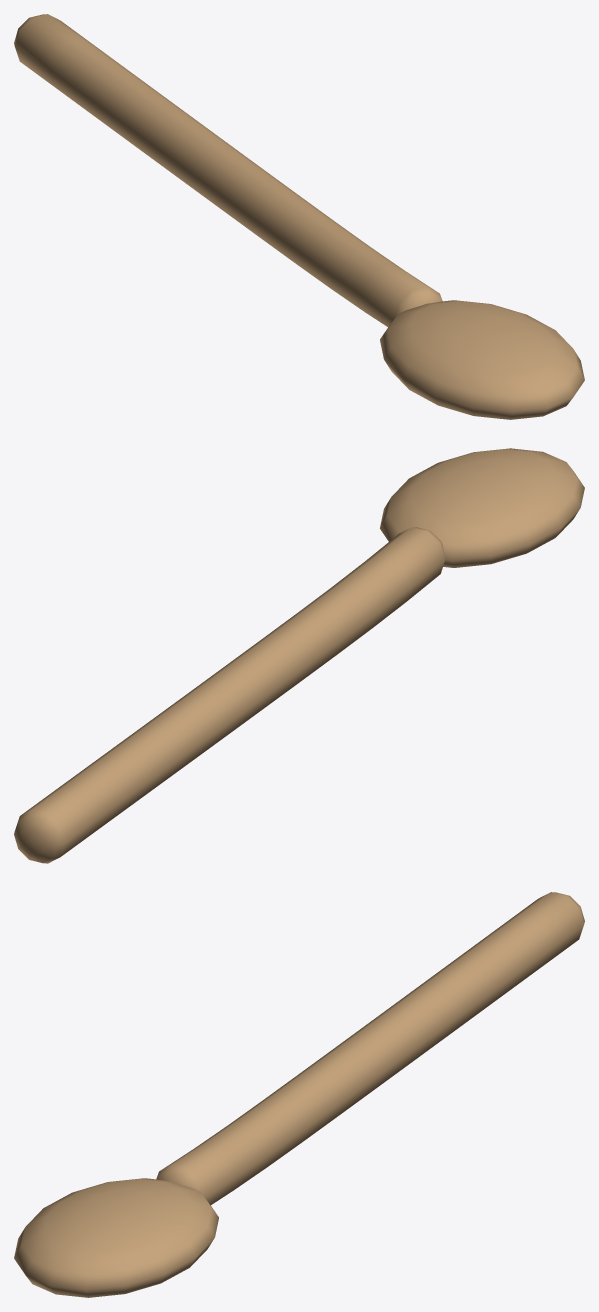
The model's file is holzloeffel.glb.
3 views of the same model, one above another, from view 1: azimuth 30°, elevation 25°; view 2: azimuth 150°, elevation 25°; view 3: azimuth 330°, elevation 25° (orthographic).
Parts seen in each view (by area): view 1: holzloeffel-matt; view 2: holzloeffel-matt; view 3: holzloeffel-matt.
Boxes of the visible parts, <box> form: holzloeffel-matt: <box>14,14,584,419</box>; holzloeffel-matt: <box>14,448,584,863</box>; holzloeffel-matt: <box>14,892,584,1297</box>.
Size of the model in its own units: 0.176 by 0.066 by 0.9933.
